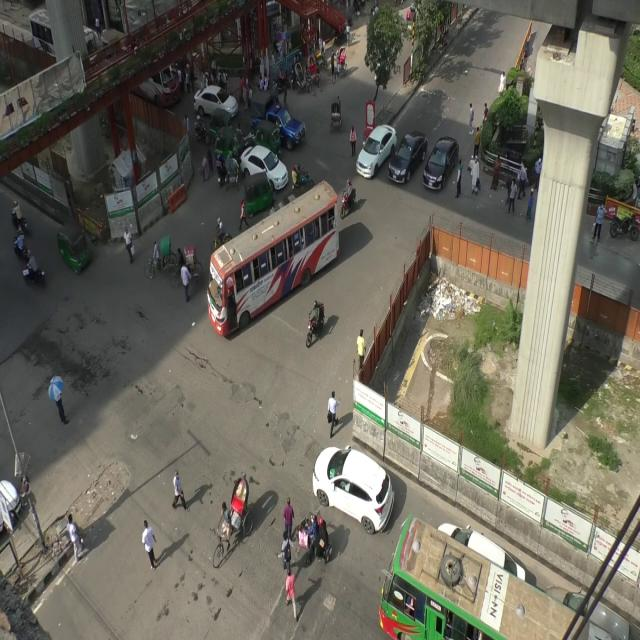cng: (56, 223, 91, 274), (242, 168, 280, 214), (256, 116, 286, 165), (214, 125, 242, 166), (208, 107, 236, 141)
rikshaw: (210, 471, 251, 566), (170, 236, 203, 300), (144, 232, 174, 285), (222, 148, 242, 197), (294, 60, 316, 97), (327, 93, 345, 136), (305, 54, 325, 92), (332, 44, 347, 82)
